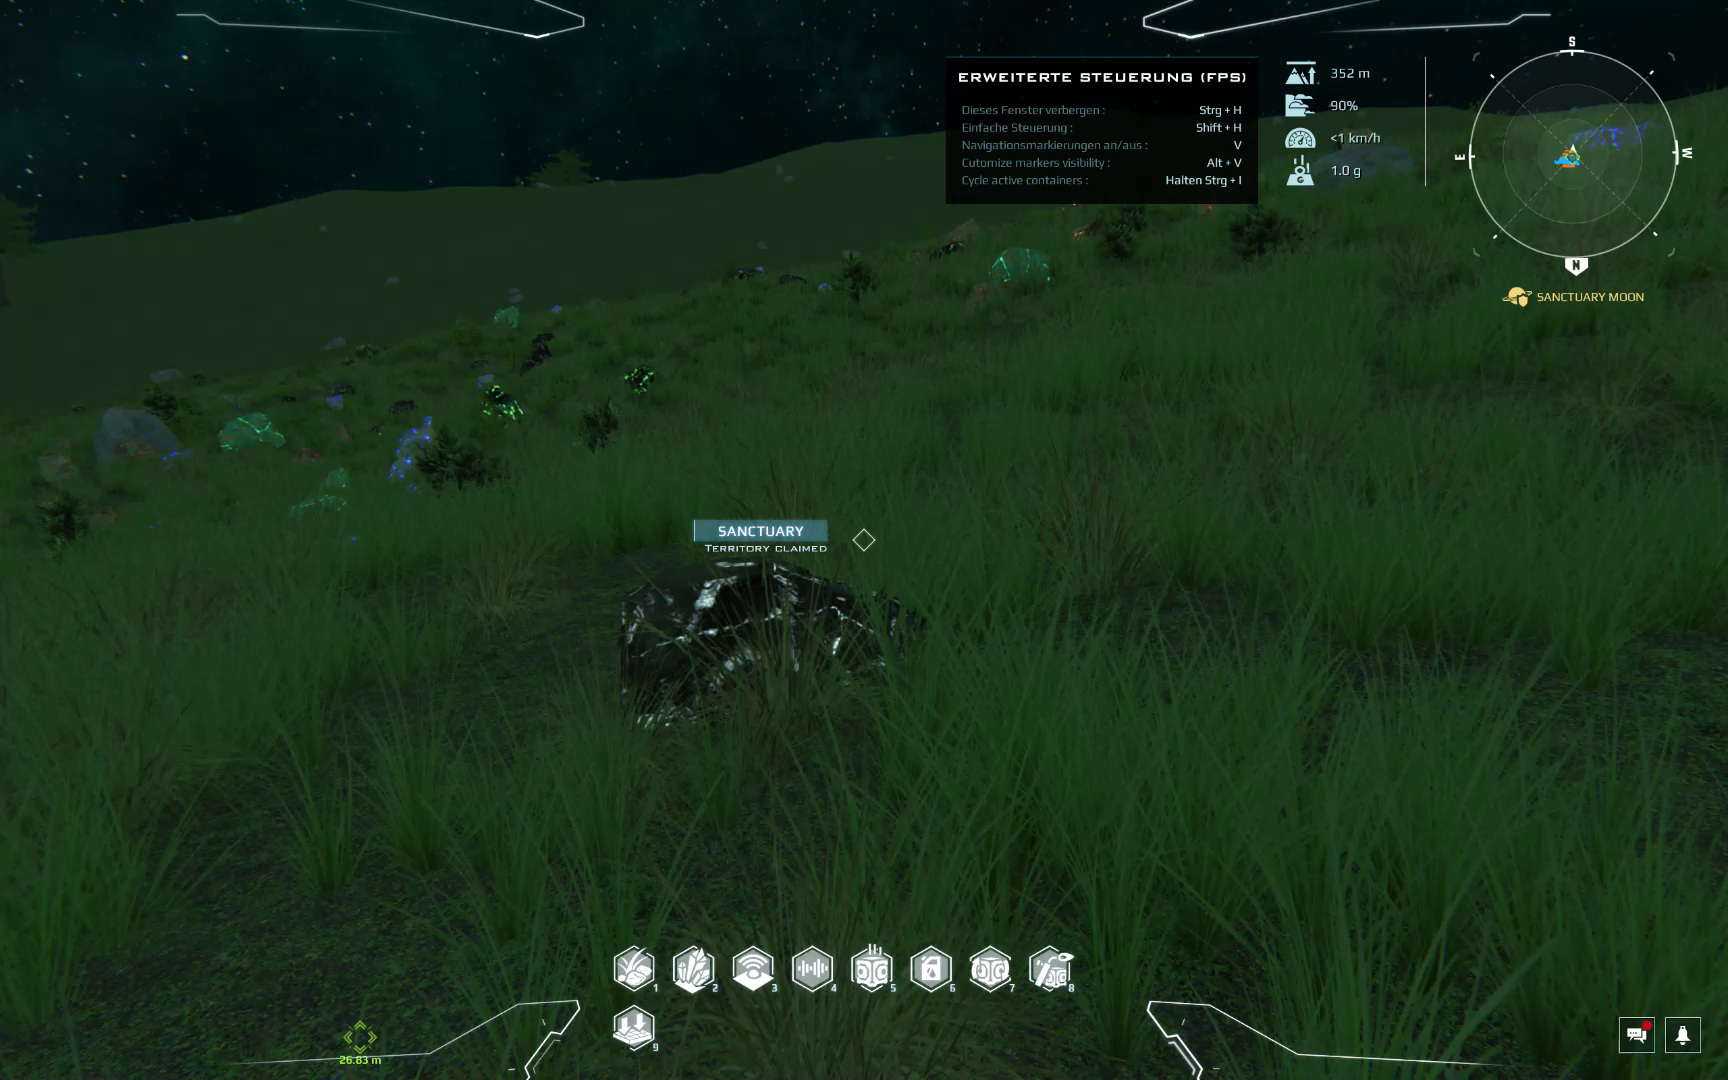Ore: (606, 556, 932, 730), (31, 433, 114, 531), (280, 467, 355, 534), (384, 416, 447, 482), (211, 406, 287, 455), (987, 244, 1057, 292), (372, 394, 413, 442), (479, 384, 525, 421), (518, 337, 554, 378), (620, 362, 658, 397), (118, 435, 160, 467), (937, 216, 985, 241), (964, 275, 1003, 306), (322, 381, 356, 414), (1069, 218, 1105, 245), (926, 240, 965, 263), (490, 301, 523, 328), (160, 448, 192, 472), (291, 443, 328, 462), (729, 263, 760, 281), (776, 272, 812, 287), (274, 392, 300, 409), (1189, 203, 1217, 218)
